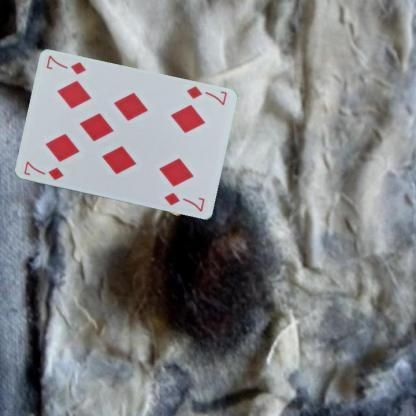7d: (183, 83, 228, 107), (20, 158, 64, 182)
